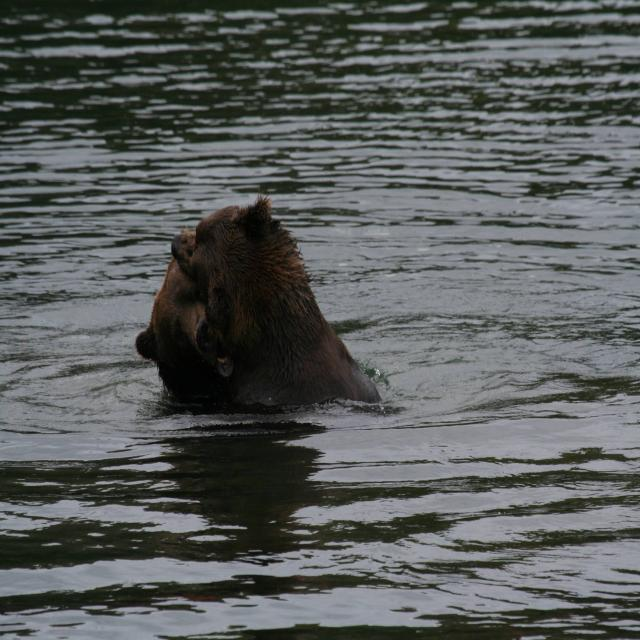bear face: (172, 195, 366, 397), (136, 253, 235, 379)
